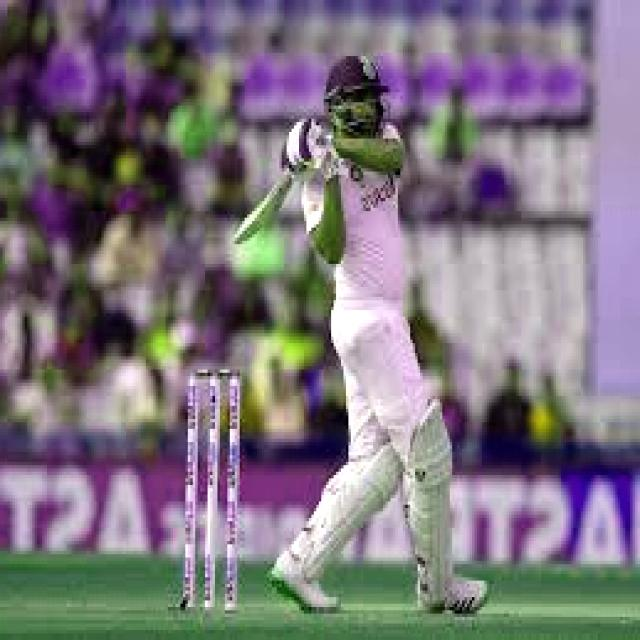toe: (229, 215, 258, 245)
